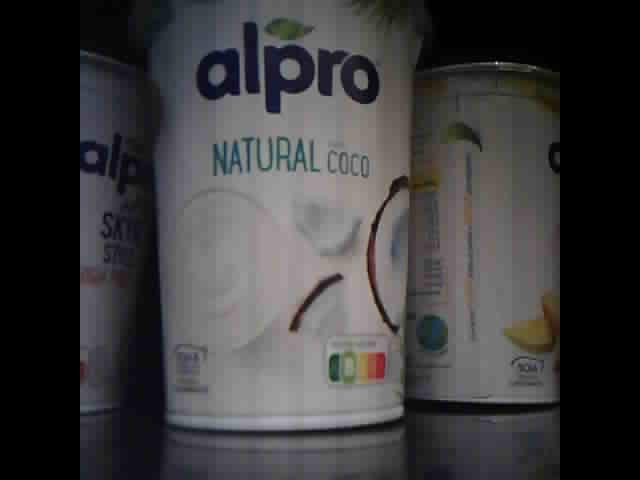alpro: (128, 1, 441, 436), (407, 57, 560, 409), (80, 45, 161, 417)
